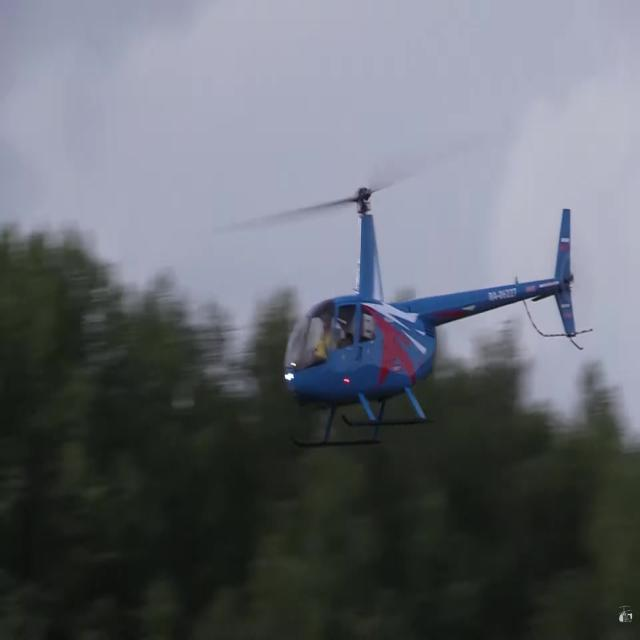CIV_HELO: (282, 182, 578, 452)
